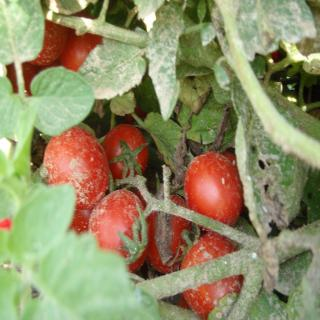tomato: (42, 125, 111, 208), (178, 230, 243, 318), (87, 188, 151, 274), (184, 150, 244, 227), (57, 12, 106, 74), (102, 122, 148, 183), (28, 18, 68, 66), (8, 61, 40, 95)
